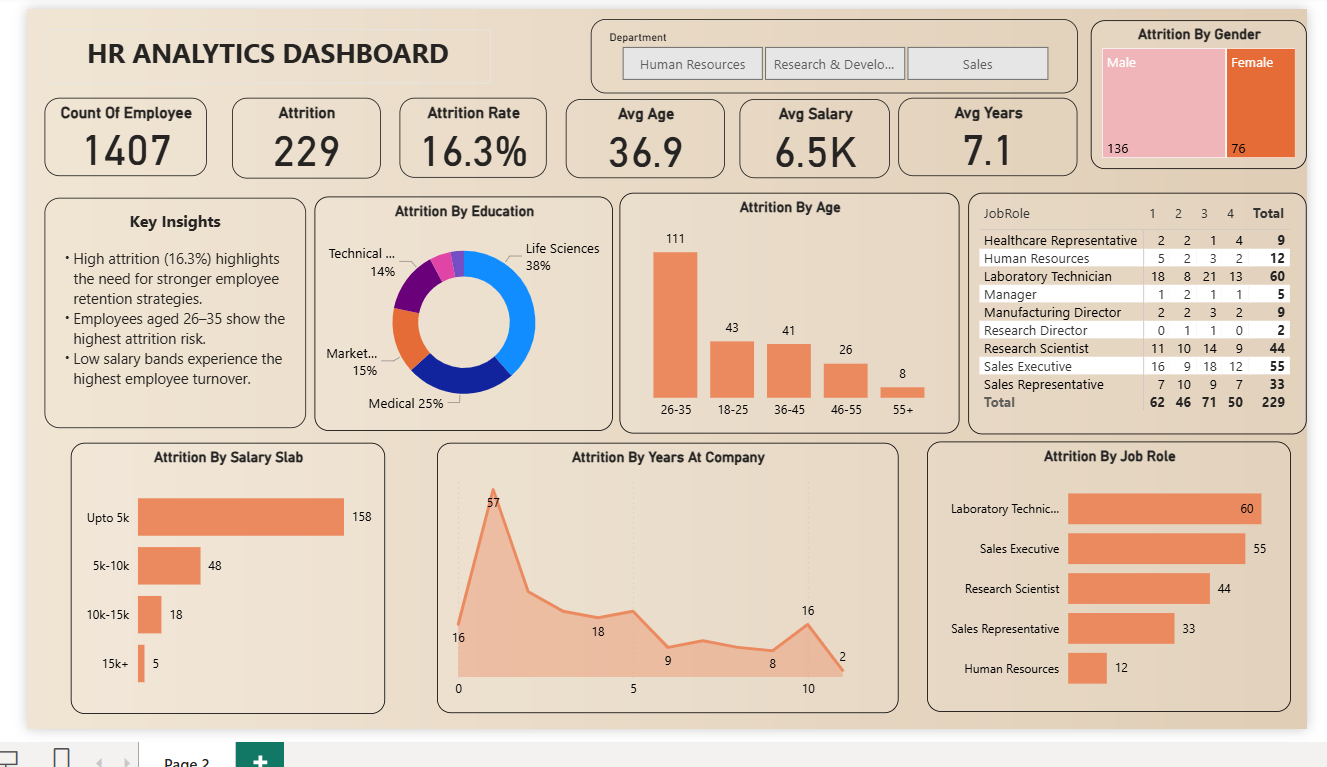

What the dashboard file says about the page in this screenshot:
{"tool":"powerbi","page":{"name":"Page 2","canvas":[1280,720],"ordinal":0},"visuals":[{"type":"card","title":"Count Of Employee","fields":{"Values":["CountNonNull(HR_Analytics.EmpID)"]},"box":[17.5,88.8,162.5,78.8],"z":0},{"type":"card","title":"Attrition","fields":{"Values":["Sum(HR_Analytics.AttritionCount)"]},"box":[204.6,88.5,148.5,80.8],"z":1000},{"type":"card","title":"Attrition Rate","fields":{"Values":["HR_Analytics.AttritionRate"]},"box":[372.8,89.3,153.2,80.8],"z":2000},{"type":"card","title":"Avg Age","fields":{"Values":["Avg(HR_Analytics.Age)"]},"box":[539.2,90,159.2,79.2],"z":3000},{"type":"card","title":"Avg Salary","fields":{"Values":["Avg(HR_Analytics.MonthlyIncome)"]},"box":[713.1,90,150.8,79.2],"z":4000},{"type":"donutChart","title":"Attrition By Education","fields":{"Category":["HR_Analytics.EducationField"],"Y":["Sum(HR_Analytics.AttritionCount)"]},"box":[287.1,187.1,298.6,234.3],"z":5000},{"type":"card","title":"Avg Years","fields":{"Values":["Avg(HR_Analytics.YearsAtCompany)"]},"box":[871.5,88.5,179.2,78.5],"z":6000},{"type":"columnChart","title":"Attrition By Age","fields":{"Category":["HR_Analytics.AgeGroup"],"Y":["Sum(HR_Analytics.AttritionCount)"]},"box":[592.5,183.3,340,240.8],"z":7000},{"type":"pivotTable","fields":{"Rows":["HR_Analytics.JobRole"],"Columns":["HR_Analytics.JobSatisfaction"],"Values":["Sum(HR_Analytics.AttritionCount)"]},"box":[941.7,183.3,338.3,241.7],"z":8000},{"type":"barChart","title":"Attrition By Salary Slab","fields":{"Category":["HR_Analytics.SalarySlab"],"Y":["Sum(HR_Analytics.AttritionCount)"]},"box":[17.5,433.8,381.2,268.8],"z":9000},{"type":"barChart","title":"Attrition By Job Role","fields":{"Y":["Sum(HR_Analytics.AttritionCount)"],"Category":["HR_Analytics.JobRole"]},"box":[900,432.9,364.3,270],"z":10000},{"type":"treemap","title":"Attrition By Gender","fields":{"Group":["HR_Analytics.Gender"],"Values":["Sum(HR_Analytics.AttritionCount)"]},"box":[1064.3,11.4,215.7,148.6],"z":11000},{"type":"areaChart","title":"Attrition By Years At Company","fields":{"Category":["HR_Analytics.YearsAtCompany"],"Y":["Sum(HR_Analytics.AttritionCount)"]},"box":[410,434.3,461.4,270],"z":12000},{"type":"slicer","fields":{"Values":["HR_Analytics.Department"]},"box":[564,10,487,74],"z":13000},{"type":"textbox","box":[17.5,20,446.7,54.2],"z":14000},{"type":"textbox","box":[17.1,188.6,261.4,230],"z":15000}]}

Visuals, with their boxes in screenshot pixels (x1, y1, x2, y2):
"Count Of Employee" card: region(52, 105, 212, 183)
"Attrition" card: region(236, 105, 383, 184)
"Attrition Rate" card: region(402, 105, 553, 185)
"Avg Age" card: region(566, 106, 723, 184)
"Avg Salary" card: region(738, 106, 886, 184)
"Attrition By Education" donutChart: region(318, 202, 612, 433)
"Avg Years" card: region(894, 105, 1071, 182)
"Attrition By Age" columnChart: region(619, 198, 954, 436)
pivotTable - HR_Analytics.JobRole x HR_Analytics.JobSatisfaction: region(963, 198, 1297, 436)
"Attrition By Salary Slab" barChart: region(52, 445, 428, 710)
"Attrition By Job Role" barChart: region(922, 444, 1281, 710)
"Attrition By Gender" treemap: region(1084, 29, 1297, 175)
"Attrition By Years At Company" areaChart: region(439, 446, 894, 712)
slicer - HR_Analytics.Department: region(591, 27, 1071, 100)
textbox: region(52, 37, 492, 90)
textbox: region(51, 203, 309, 430)
